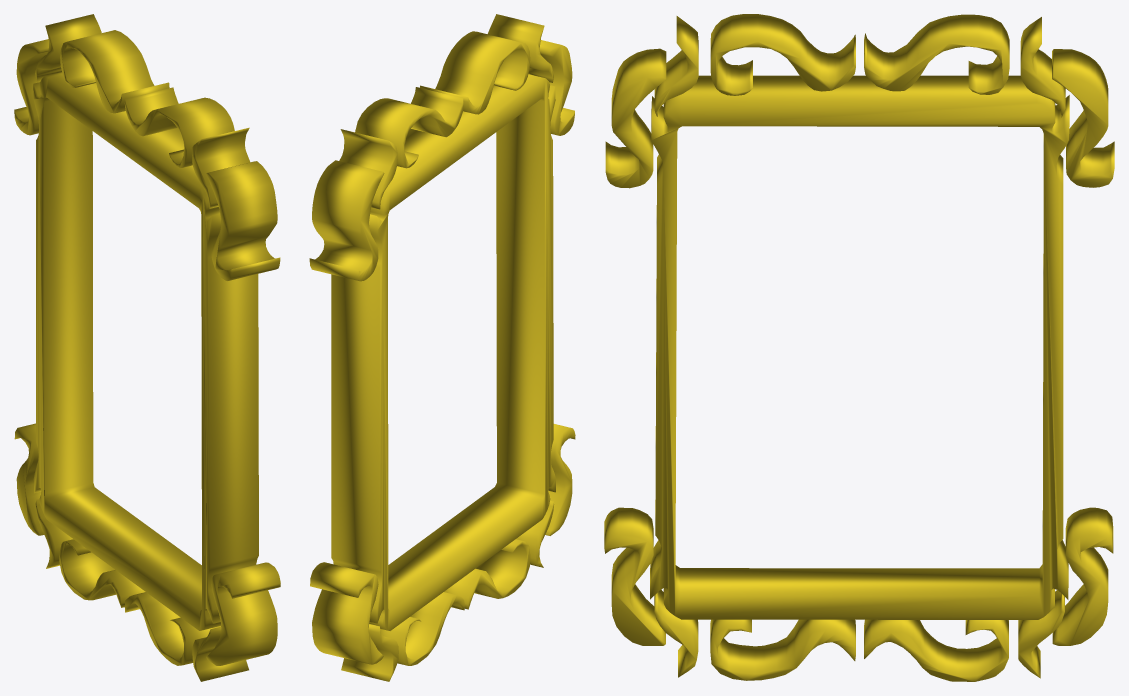
The model's file is 1stPodium.fbx.
3 renders of one model, left to right at view 1: azimuth 30°, elevation 25°; view 2: azimuth 150°, elevation 25°; view 3: azimuth 270°, elevation 25°, orthographic. The views are drawn at different scales.
Visible parts, largest first — view 1: Plane.001; view 2: Plane.001; view 3: Plane.001.
Part boxes in pixels (left/top/right/bottom): Plane.001: left=14, top=14, right=280, bottom=681; Plane.001: left=309, top=14, right=575, bottom=681; Plane.001: left=604, top=14, right=1114, bottom=681.
Size of the model in its own units: 43.44 by 470 by 340.
